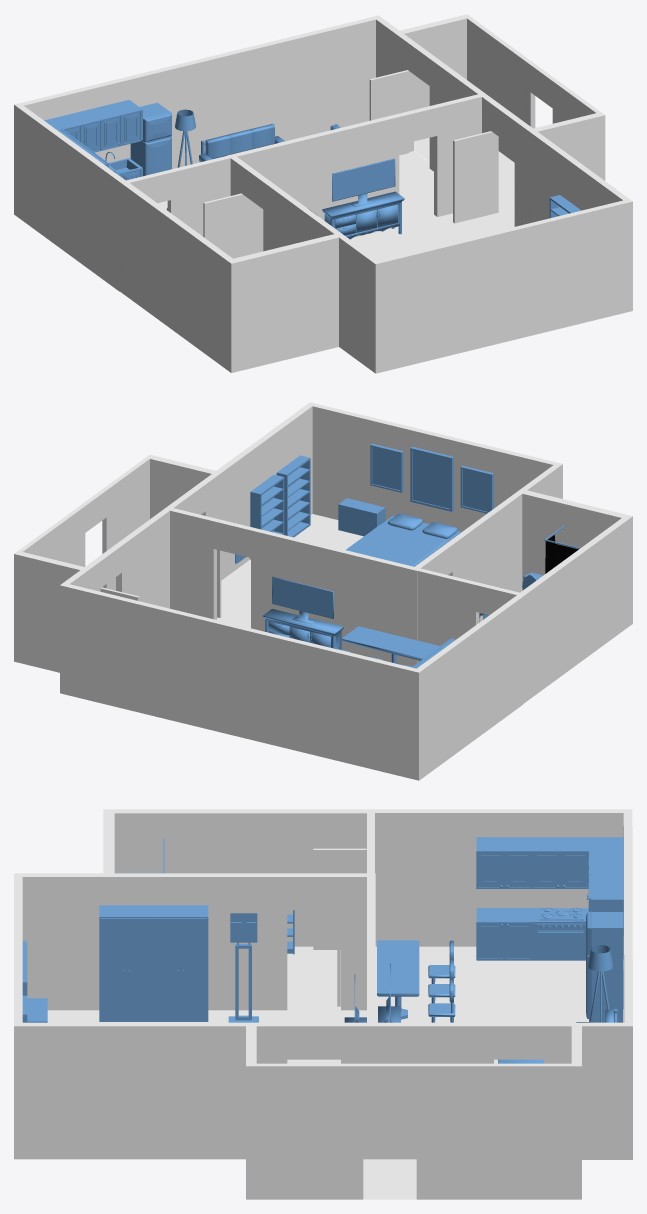
File: room1b.glb
3 views of the same model, one above another, from view 1: azimuth 30°, elevation 25°; view 2: azimuth 150°, elevation 25°; view 3: azimuth 270°, elevation 25° (orthographic). The views are drawn at different scales.
Visible parts, largest first — view 1: ROOM FINISHED 1; view 2: ROOM FINISHED 1; view 3: ROOM FINISHED 1.
Part boxes in pixels (<box>): ROOM FINISHED 1: <box>14,14,632,373</box>; ROOM FINISHED 1: <box>14,402,632,780</box>; ROOM FINISHED 1: <box>14,809,632,1199</box>.
Size of the model in its own units: 8.55 by 2.09 by 8.71.
